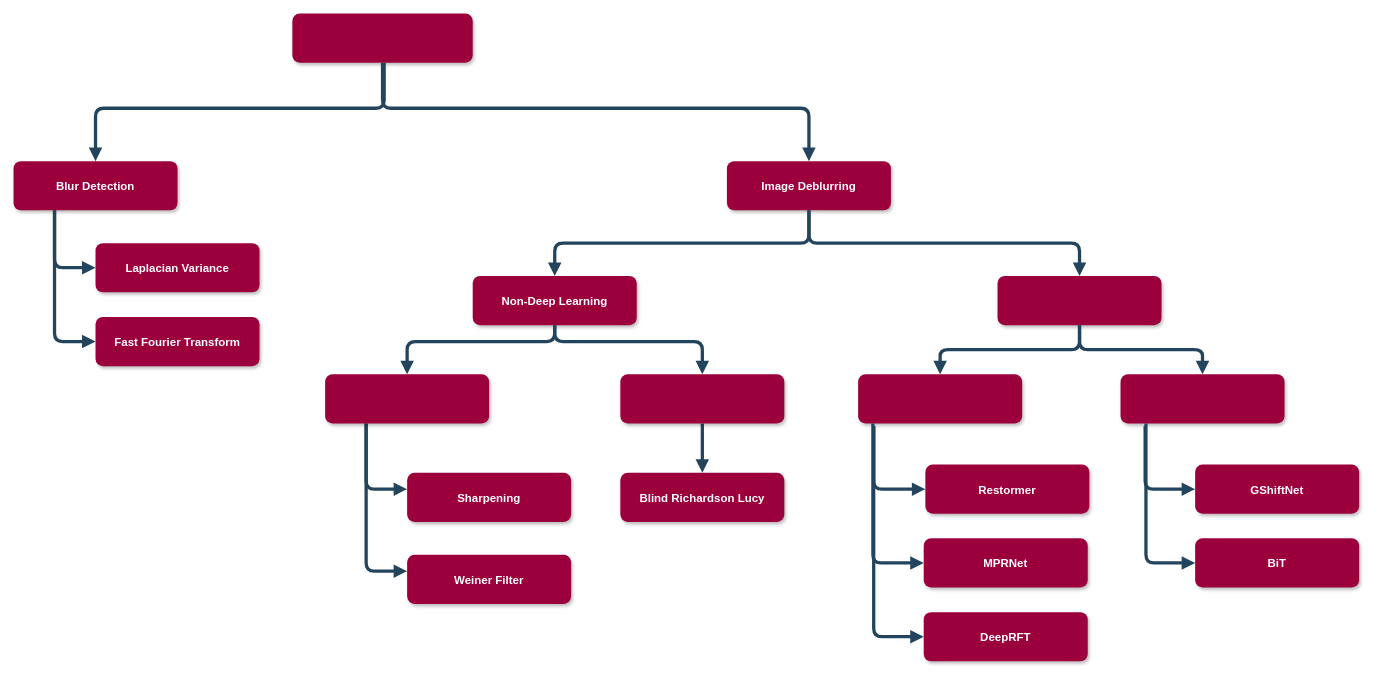
Image size: 1373x675. Some labels were removed from this diagram. The shapes that lost their labels are listed below. From the top down, each one's centre as x and y in pixels, then its label:
At point 383,39: "Techniques".
At point 1080,301: "Deep Learning".
At point 407,400: "Non-Blind Deblurring".
At point 703,400: "Blind Deblurring".
At point 940,400: "Single Image Deblurring".
At point 1203,400: "Multi- Image Deblurring".
